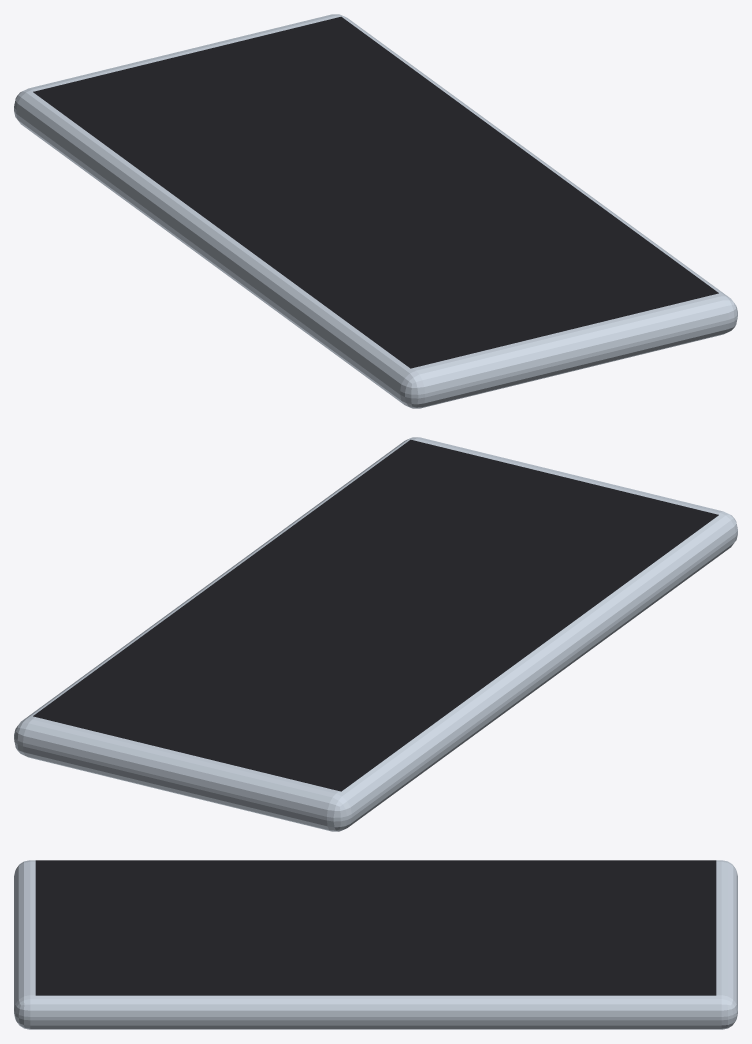
The model's file is motorola-razr-model-169-budget-2023.glb.
3 renders of one model, top to bottom at view 1: azimuth 30°, elevation 25°; view 2: azimuth 150°, elevation 25°; view 3: azimuth 270°, elevation 25°, orthographic. The views are drawn at different scales.
Parts seen in each view (by area): view 1: Phone_Screen, Phone_Body; view 2: Phone_Screen, Phone_Body; view 3: Phone_Screen, Phone_Body.
Boxes of the visible parts, left/top/right/bottom form: Phone_Screen: left=33, top=16, right=718, bottom=368; Phone_Body: left=14, top=14, right=737, bottom=408; Phone_Screen: left=33, top=439, right=718, bottom=791; Phone_Body: left=14, top=437, right=737, bottom=831; Phone_Screen: left=35, top=860, right=716, bottom=995; Phone_Body: left=14, top=860, right=737, bottom=1029.
Size of the model in its own units: 0.0764 by 0.0081 by 0.1586.
